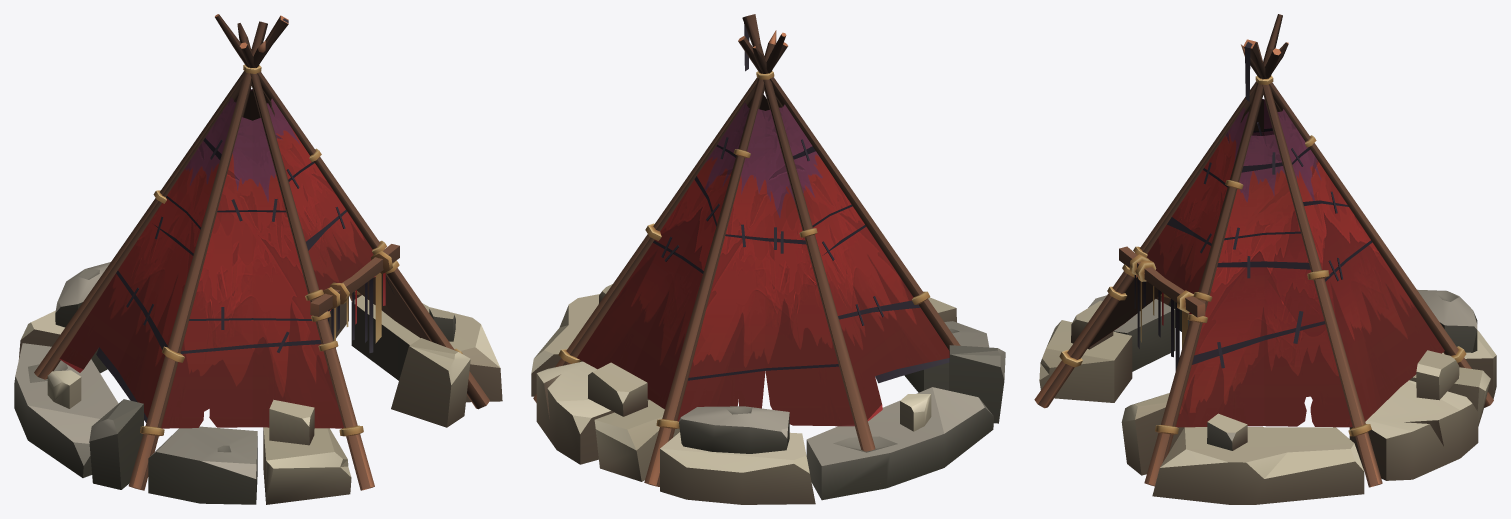
The model's file is Hut_3A.fbx.
The picture shows the model from 3 angles, left to right: view 1: azimuth 30°, elevation 25°; view 2: azimuth 150°, elevation 25°; view 3: azimuth 270°, elevation 25°; orthographic projection. The views are drawn at different scales.
Parts seen in each view (by area): view 1: Hut_3A; view 2: Hut_3A; view 3: Hut_3A.
Part boxes in pixels (x1,y1,x2,y2): Hut_3A: [14, 14, 502, 504]; Hut_3A: [531, 14, 1005, 504]; Hut_3A: [1034, 14, 1496, 504].
Size of the model in its own units: 584 by 531 by 583.
